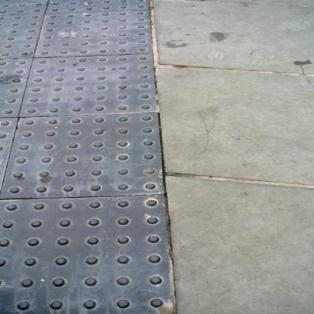Podoctatil: (1, 2, 174, 313)
